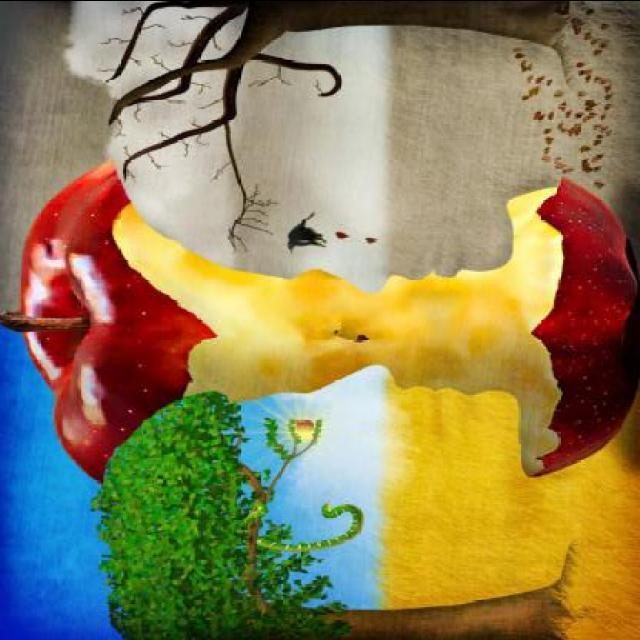Apple pie: (0, 160, 638, 483)
